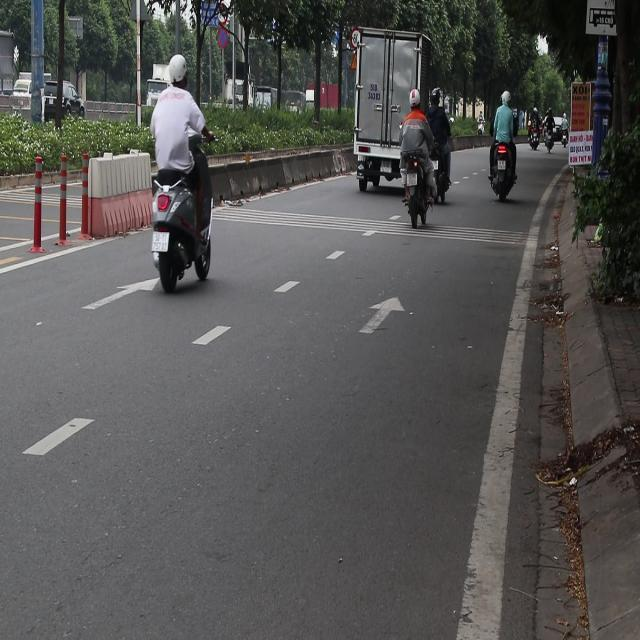car: (42, 76, 94, 142), (10, 73, 41, 124)
motorbike: (149, 154, 213, 293), (486, 141, 518, 201), (403, 142, 426, 218), (434, 138, 451, 223), (545, 124, 567, 150), (529, 123, 545, 151), (558, 125, 568, 148)
truck: (349, 28, 432, 200), (144, 61, 180, 124)
